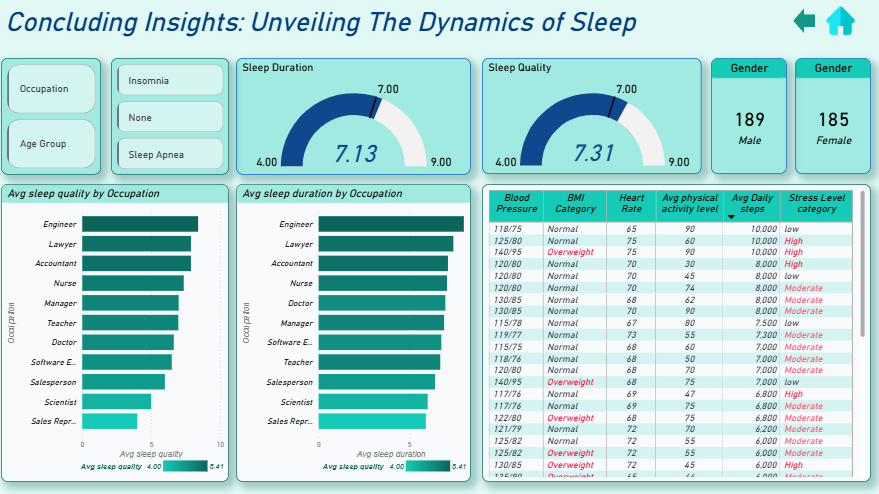

The dashboard page shown, as its layout file describes it:
{"tool":"powerbi","page":{"name":"CONCLUSION","canvas":[1280,720],"ordinal":7},"visuals":[{"type":"tableEx","fields":{"Values":["Sleep_health_and_lifestyle_data.Blood Pressure","Sleep_health_and_lifestyle_data.BMI Category","Sleep_health_and_lifestyle_data.Heart Rate","Measure Table.Avg physical activity level","Measure Table.Avg Daily steps","Sleep_health_and_lifestyle_data.Stress Level  category"]},"box":[707,273.2,559.8,429.5],"z":0},{"type":"card","title":"Gender","fields":{"Values":["Measure Table.Female"]},"box":[1157.9,92.9,108.9,167],"z":1000},{"type":"gauge","title":" Sleep Duration","fields":{"Y":["Measure Table.Avg sleep duration"]},"box":[353.5,92,337.5,167.9],"z":2000},{"type":"textbox","box":[15.2,12.5,933.9,63.4],"z":3000},{"type":"image","box":[1191.1,12.5,64.3,50.9],"z":4000},{"type":"shape","box":[1154.5,19.6,32.1,36.6],"z":5000},{"type":"barChart","fields":{"Category":["SLEEP HEALTH.Occupation","SLEEP HEALTH.Age Group"],"Y":["Measure Table.Avg sleep quality"]},"box":[14.4,273.6,328.3,429.1],"z":6000},{"type":"advancedSlicerVisual","fields":{"Values":["Parameter.Age&Occupation"]},"box":[15.1,92,143.8,167.9],"z":7000},{"type":"advancedSlicerVisual","fields":{"Values":["SLEEP HEALTH.Sleep Disorder"]},"box":[173.1,92.9,169.6,167.9],"z":8000},{"type":"gauge","title":" Sleep Quality","fields":{"Y":["Measure Table.Avg sleep quality"]},"box":[707,92,316.1,167],"z":9000},{"type":"card","title":"Gender","fields":{"Values":["Measure Table.Male"]},"box":[1037.4,92.9,108.9,167],"z":10000},{"type":"barChart","fields":{"Category":["SLEEP HEALTH.Occupation","SLEEP HEALTH.Age Group"],"Y":["Measure Table.Avg sleep duration"]},"box":[352.8,273.6,338.4,429.1],"z":11000}]}

Visuals, with their boxes in screenshot pixels (x1, y1, x2, y2), scaled from the page's 1280x720 canvas onto the 879x494 screenshot:
tableEx - Sleep_health_and_lifestyle_data.Blood Pressure x Sleep_health_and_lifestyle_data.BMI Category: [left=486, top=187, right=870, bottom=482]
"Gender" card: [left=795, top=64, right=870, bottom=178]
" Sleep Duration" gauge: [left=243, top=63, right=475, bottom=178]
textbox: [left=10, top=9, right=652, bottom=52]
image: [left=818, top=9, right=862, bottom=43]
shape: [left=793, top=13, right=815, bottom=39]
barChart - SLEEP HEALTH.Occupation x SLEEP HEALTH.Age Group: [left=10, top=188, right=235, bottom=482]
advancedSlicerVisual - Parameter.Age&Occupation: [left=10, top=63, right=109, bottom=178]
advancedSlicerVisual - SLEEP HEALTH.Sleep Disorder: [left=119, top=64, right=235, bottom=179]
" Sleep Quality" gauge: [left=486, top=63, right=703, bottom=178]
"Gender" card: [left=712, top=64, right=787, bottom=178]
barChart - SLEEP HEALTH.Occupation x SLEEP HEALTH.Age Group: [left=242, top=188, right=475, bottom=482]
